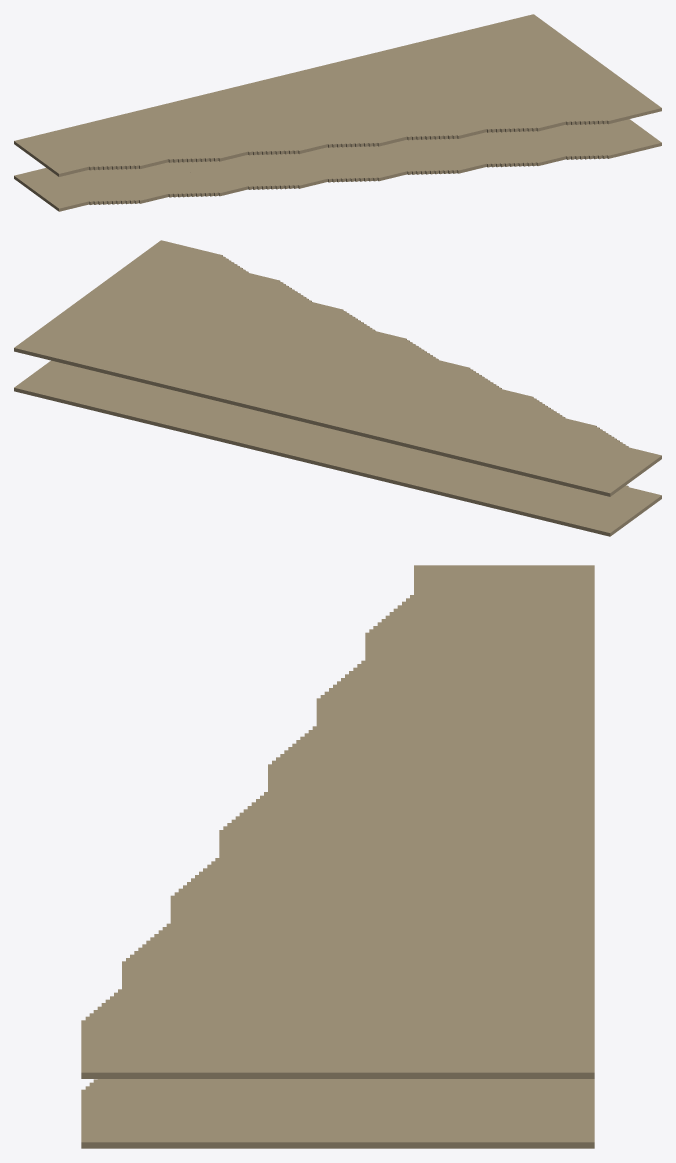
The model's file is KotelApproach_Parapets.obj.
3 views of the same model, one above another, from view 1: azimuth 30°, elevation 25°; view 2: azimuth 150°, elevation 25°; view 3: azimuth 270°, elevation 25° (orthographic). The views are drawn at different scales.
Parts seen in each view (by area): view 1: KotelApproach_Parapets; view 2: KotelApproach_Parapets; view 3: KotelApproach_Parapets.
Boxes of the visible parts, x1,y1,x2,y2 form: KotelApproach_Parapets: (14, 14, 661, 211); KotelApproach_Parapets: (14, 240, 661, 536); KotelApproach_Parapets: (81, 565, 594, 1148).
Bounding box in the file's own units: 51.7 × 3.6 × 22.1.
